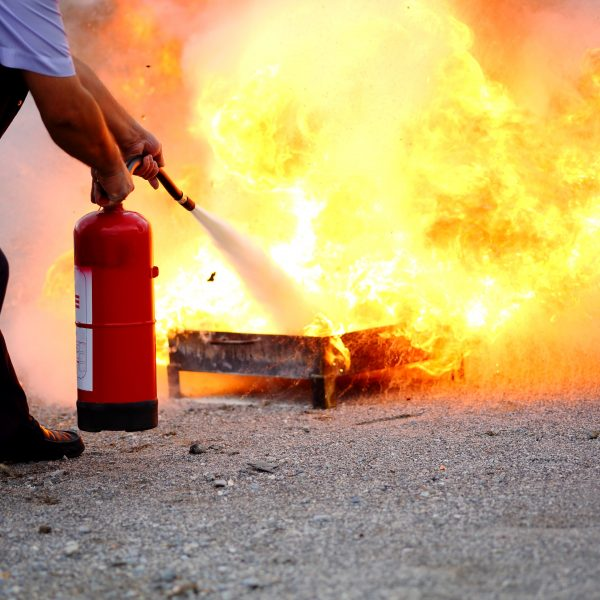fire: (76, 154, 159, 430)
